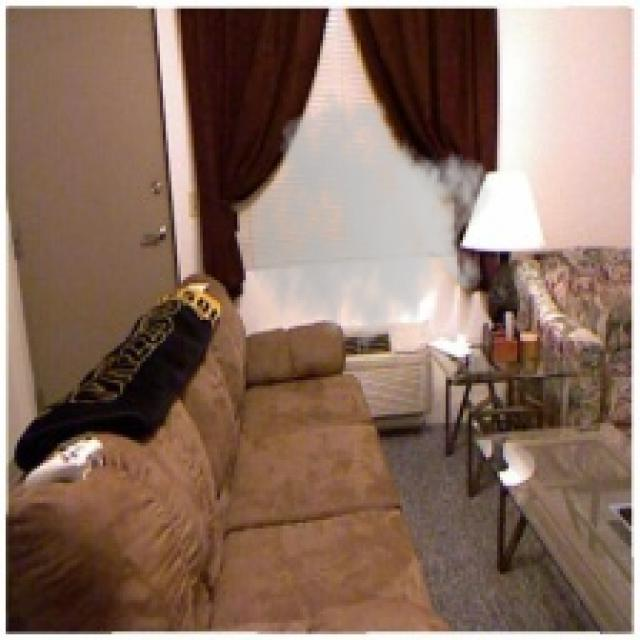smoke: (246, 89, 494, 368)
